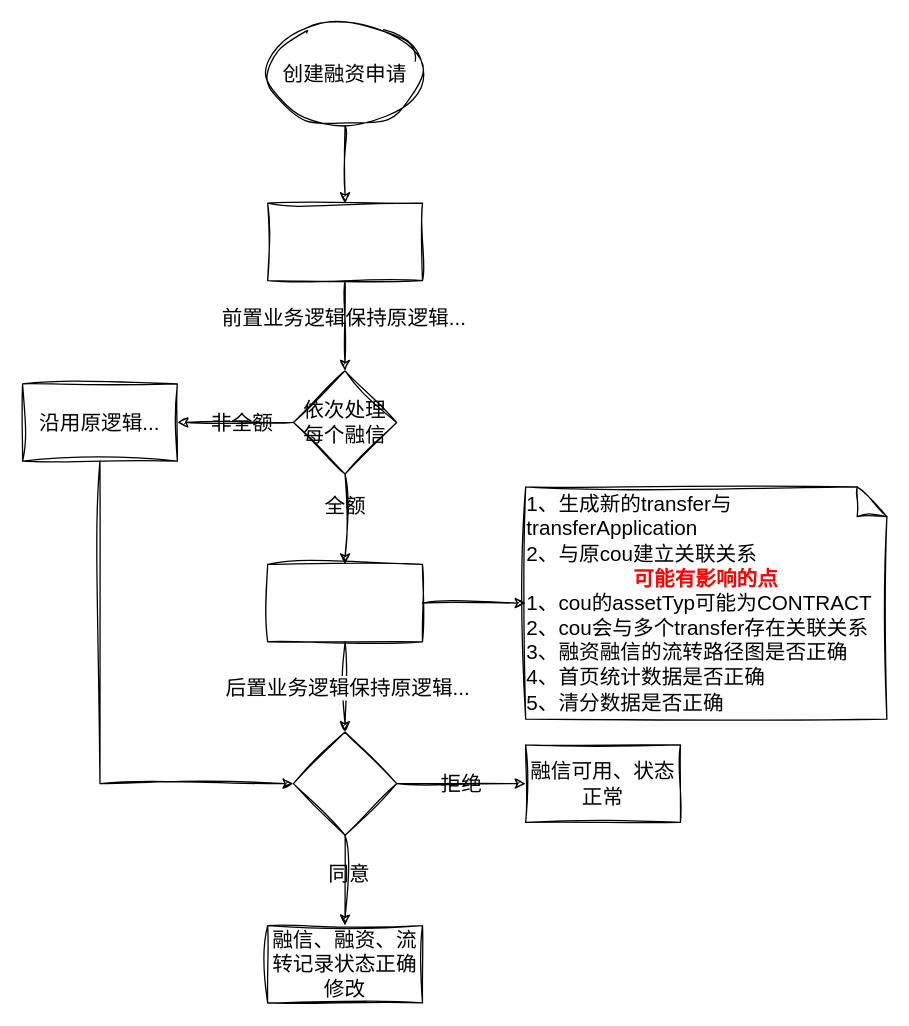
The diagram is 909 pixels wide and 1026 high, and some of its shapes have lost their labels. Here are the shapes that lost their labels. From the top down, the box of each, then its label:
(266, 202, 422, 281): 选择融信
(266, 563, 422, 642): 不拆分融信
(292, 731, 397, 835): 审核
